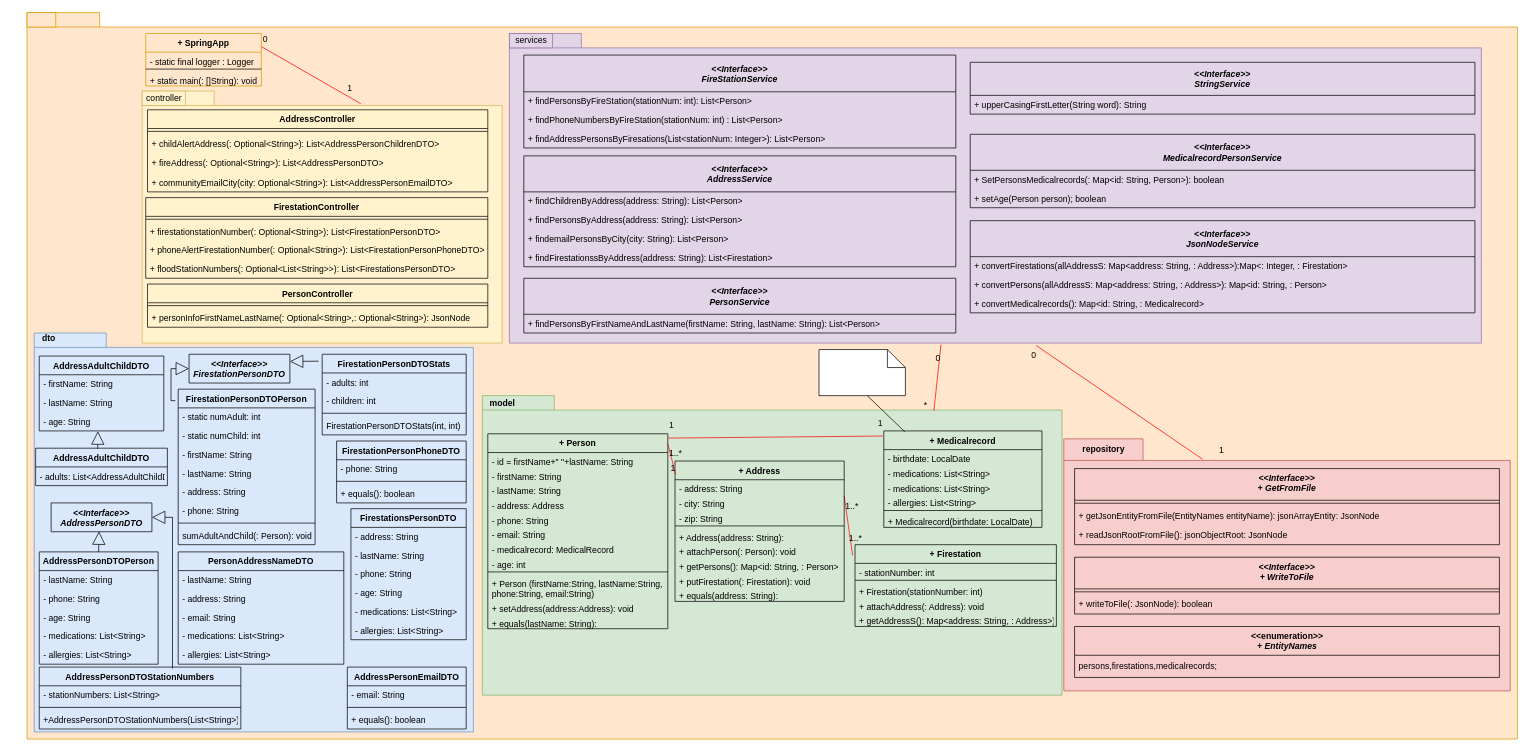
Image size: 1530x752. Some labels were removed from this diagram. Each missing label, with the centre of its shape:
"alerts" belongs at point (41, 19).
"Map<id: String, : MedicalRecord>" belongs at point (861, 372).
